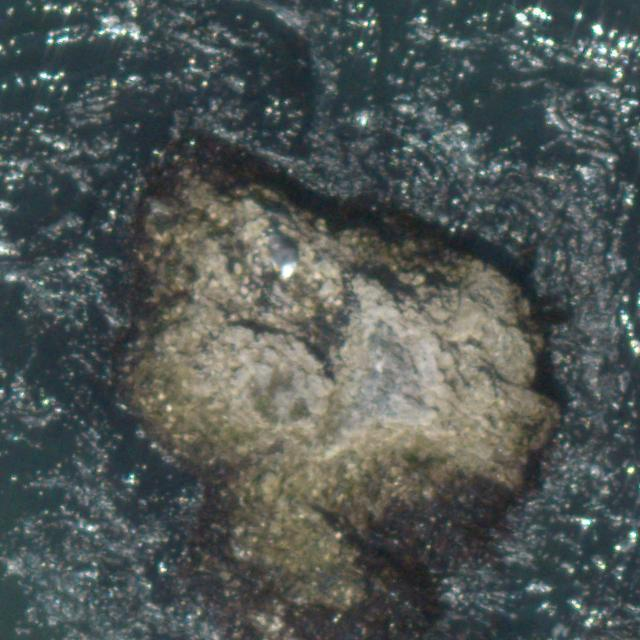umineko: (270, 234, 297, 279)
